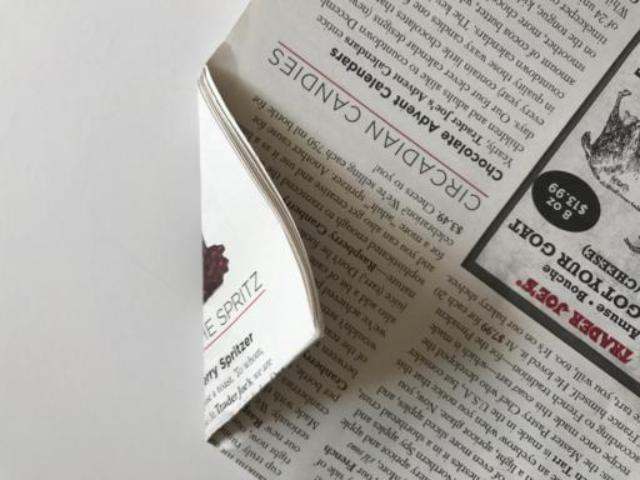cardboard paper: (208, 0, 638, 476)
